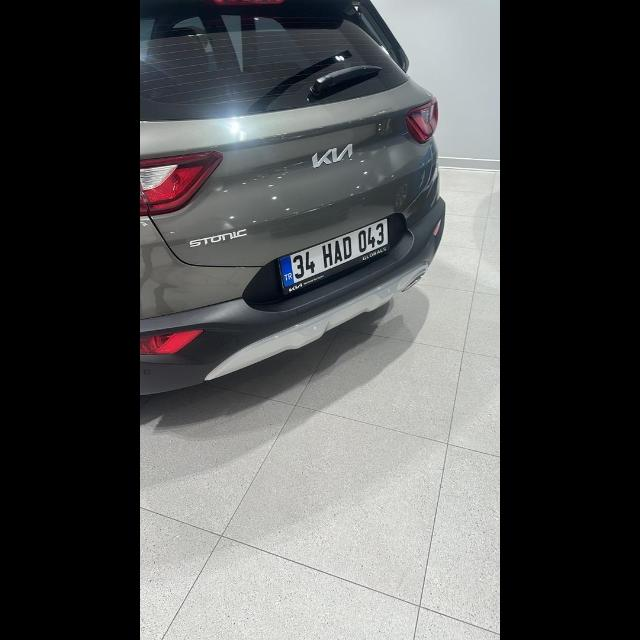Plaka: (282, 218, 388, 286)
